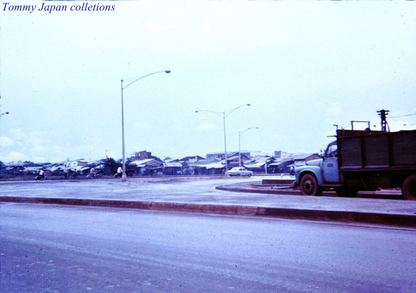car: (227, 166, 253, 173)
truck: (284, 120, 411, 200)
